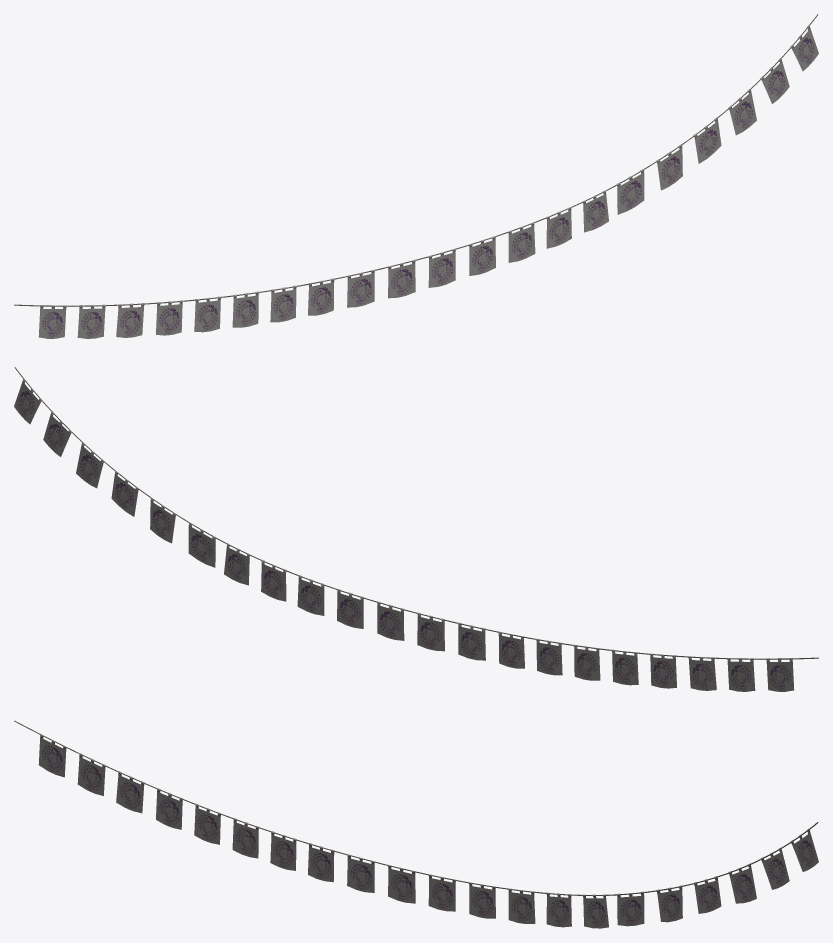
Rendered from FlagLong_L.fbx.
3 views of the same model, one above another, from view 1: azimuth 30°, elevation 25°; view 2: azimuth 150°, elevation 25°; view 3: azimuth 330°, elevation 25° (orthographic).
Parts seen in each view (by area): view 1: SM_a_001_FlagND_02a; view 2: SM_a_001_FlagND_02a; view 3: SM_a_001_FlagND_02a.
Part boxes in pixels (x1=…): SM_a_001_FlagND_02a: x1=14, y1=14, x2=818, y2=338; SM_a_001_FlagND_02a: x1=14, y1=367, x2=818, y2=691; SM_a_001_FlagND_02a: x1=14, y1=720, x2=818, y2=928.
Size of the model in its own units: 1555 by 335 by 3.21.
